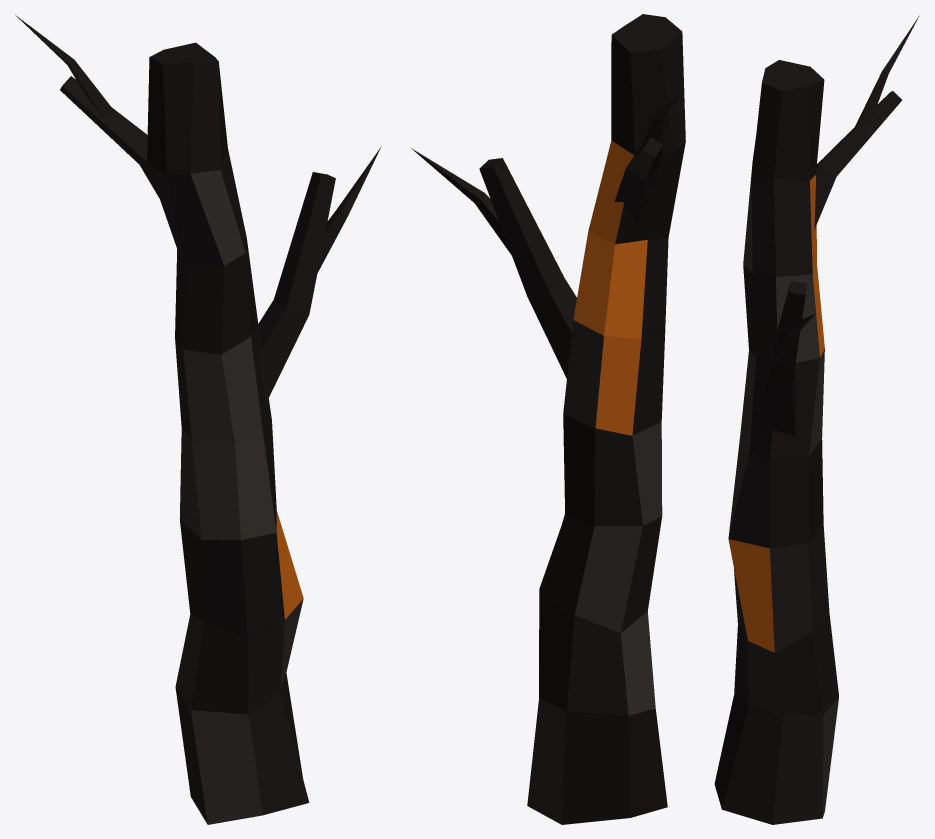
Rendered from Tree_Charred_B.glb.
The picture shows the model from 3 angles, left to right: view 1: azimuth 30°, elevation 25°; view 2: azimuth 150°, elevation 25°; view 3: azimuth 270°, elevation 25°; orthographic projection. The views are drawn at different scales.
Parts seen in each view (by area): view 1: Tree_Charred_B; view 2: Tree_Charred_B; view 3: Tree_Charred_B.
Part boxes in pixels (bbox=[...]): Tree_Charred_B: bbox=[15, 15, 381, 824]; Tree_Charred_B: bbox=[411, 14, 685, 824]; Tree_Charred_B: bbox=[714, 15, 919, 824].
Bounding box in the file's own units: 1.45 × 3.42 × 0.8828.
